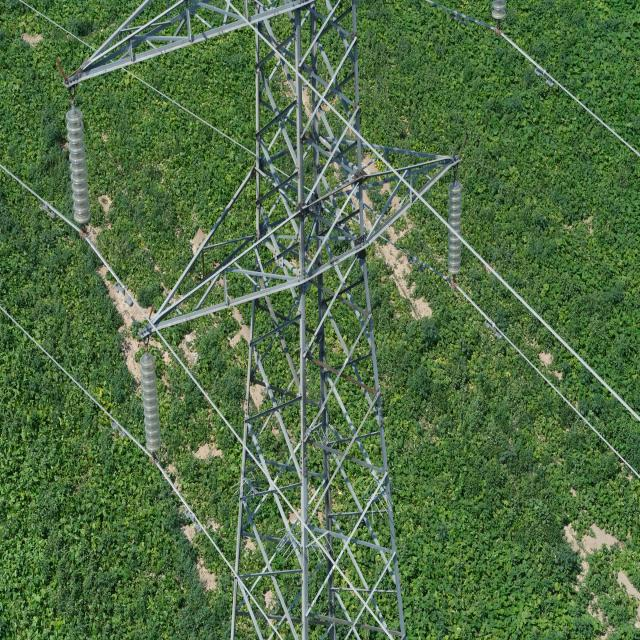direk: (224, 0, 413, 640)
